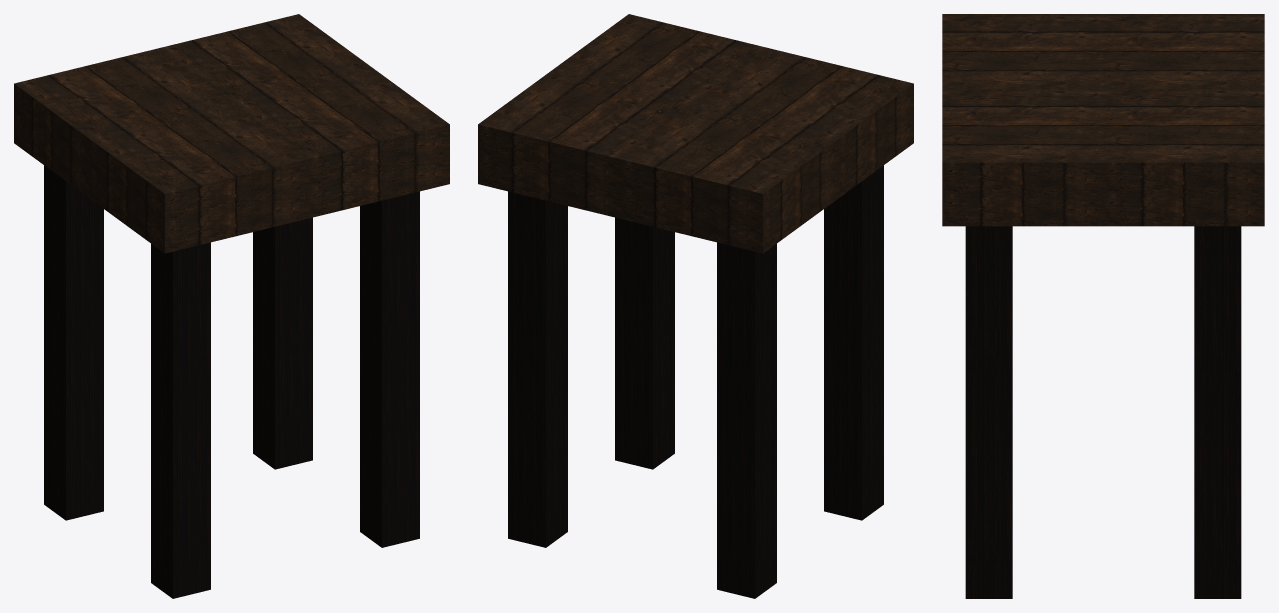
The picture shows the model from 3 angles, left to right: view 1: azimuth 30°, elevation 25°; view 2: azimuth 150°, elevation 25°; view 3: azimuth 270°, elevation 25°; orthographic projection. The views are drawn at different scales.
Visible parts, largest first — view 1: fixture-D-module; view 2: fixture-D-module; view 3: fixture-D-module.
Part boxes in pixels (bbox=[...]): fixture-D-module: bbox=[14, 14, 449, 598]; fixture-D-module: bbox=[478, 14, 913, 598]; fixture-D-module: bbox=[942, 14, 1264, 598].
Size of the model in its own units: 0.6 by 0.84 by 0.55.
Materials: 2 (2 with a texture image).
